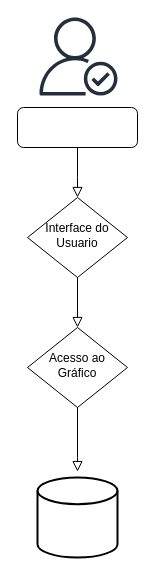
Some shapes in this 155 by 575 pixel diagram are drawn without their labels. Each missing label, with the centre of its shape:
"Diário Oficial do Piauí" goes at point (77, 517).
"Usuario" goes at point (77, 127).
